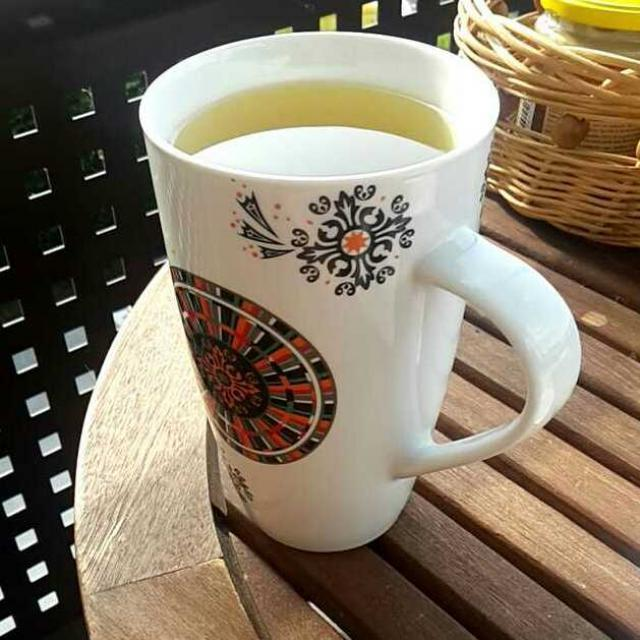tea: (179, 82, 448, 172)
